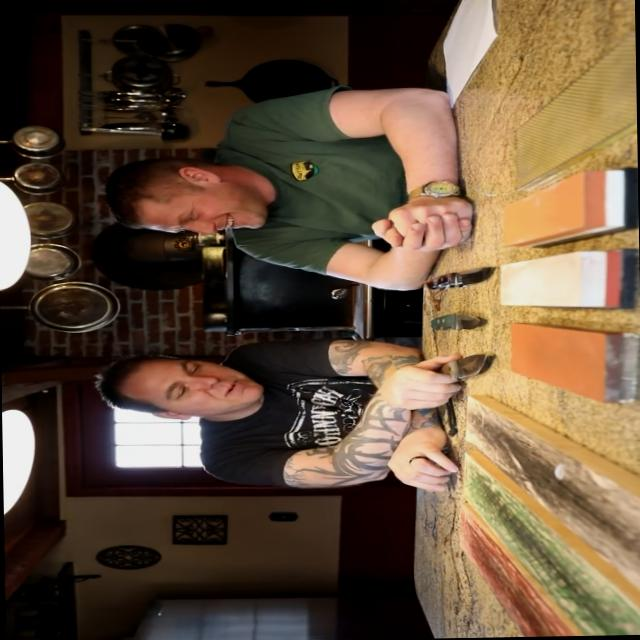knife: (410, 344, 510, 408)
